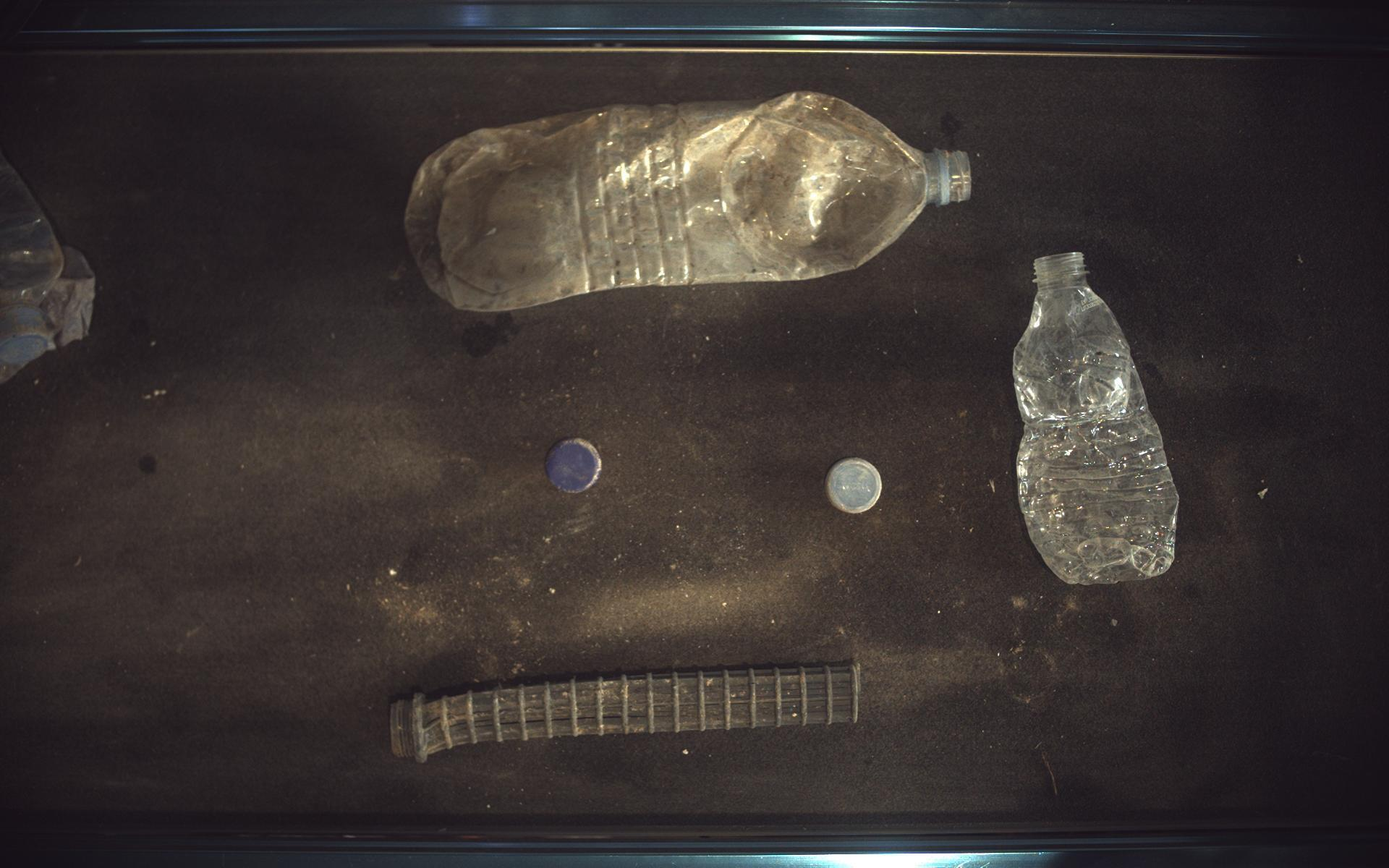general_w: (405, 90, 973, 311), (1016, 252, 1181, 585), (828, 458, 884, 514), (546, 439, 602, 493)
plastic: (390, 664, 862, 764)
